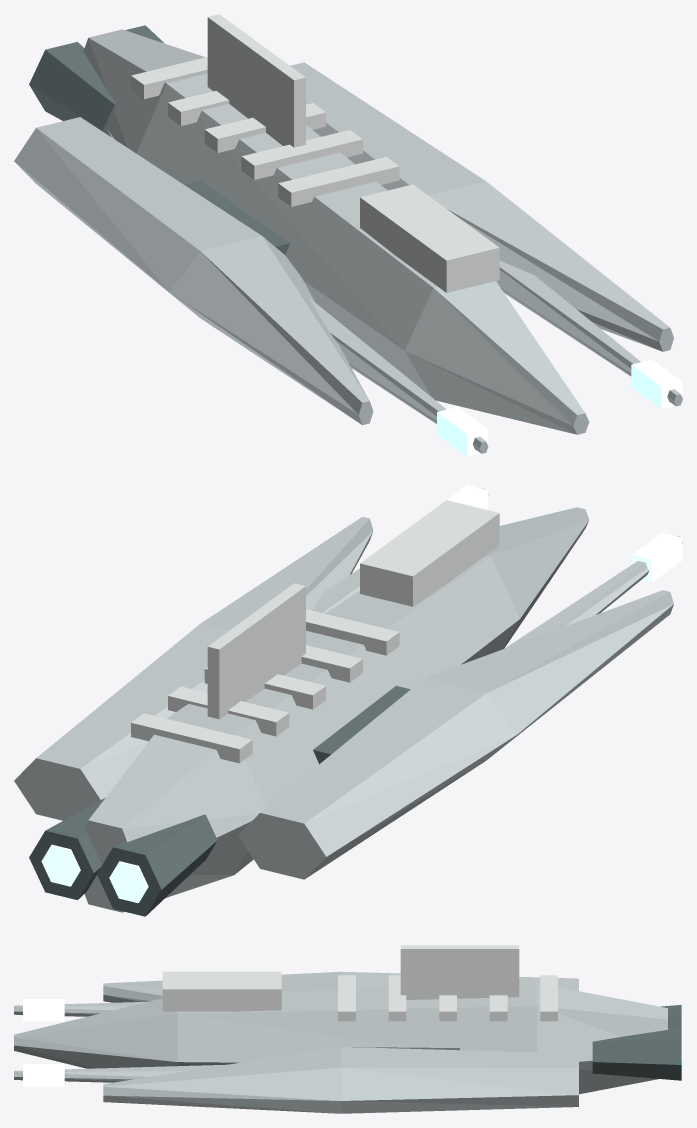
The picture shows the model from 3 angles, top to bottom: view 1: azimuth 30°, elevation 25°; view 2: azimuth 150°, elevation 25°; view 3: azimuth 270°, elevation 25°; orthographic projection. The views are drawn at different scales.
Bounding box in the file's own units: 1.91 × 1.1 × 4.63.
